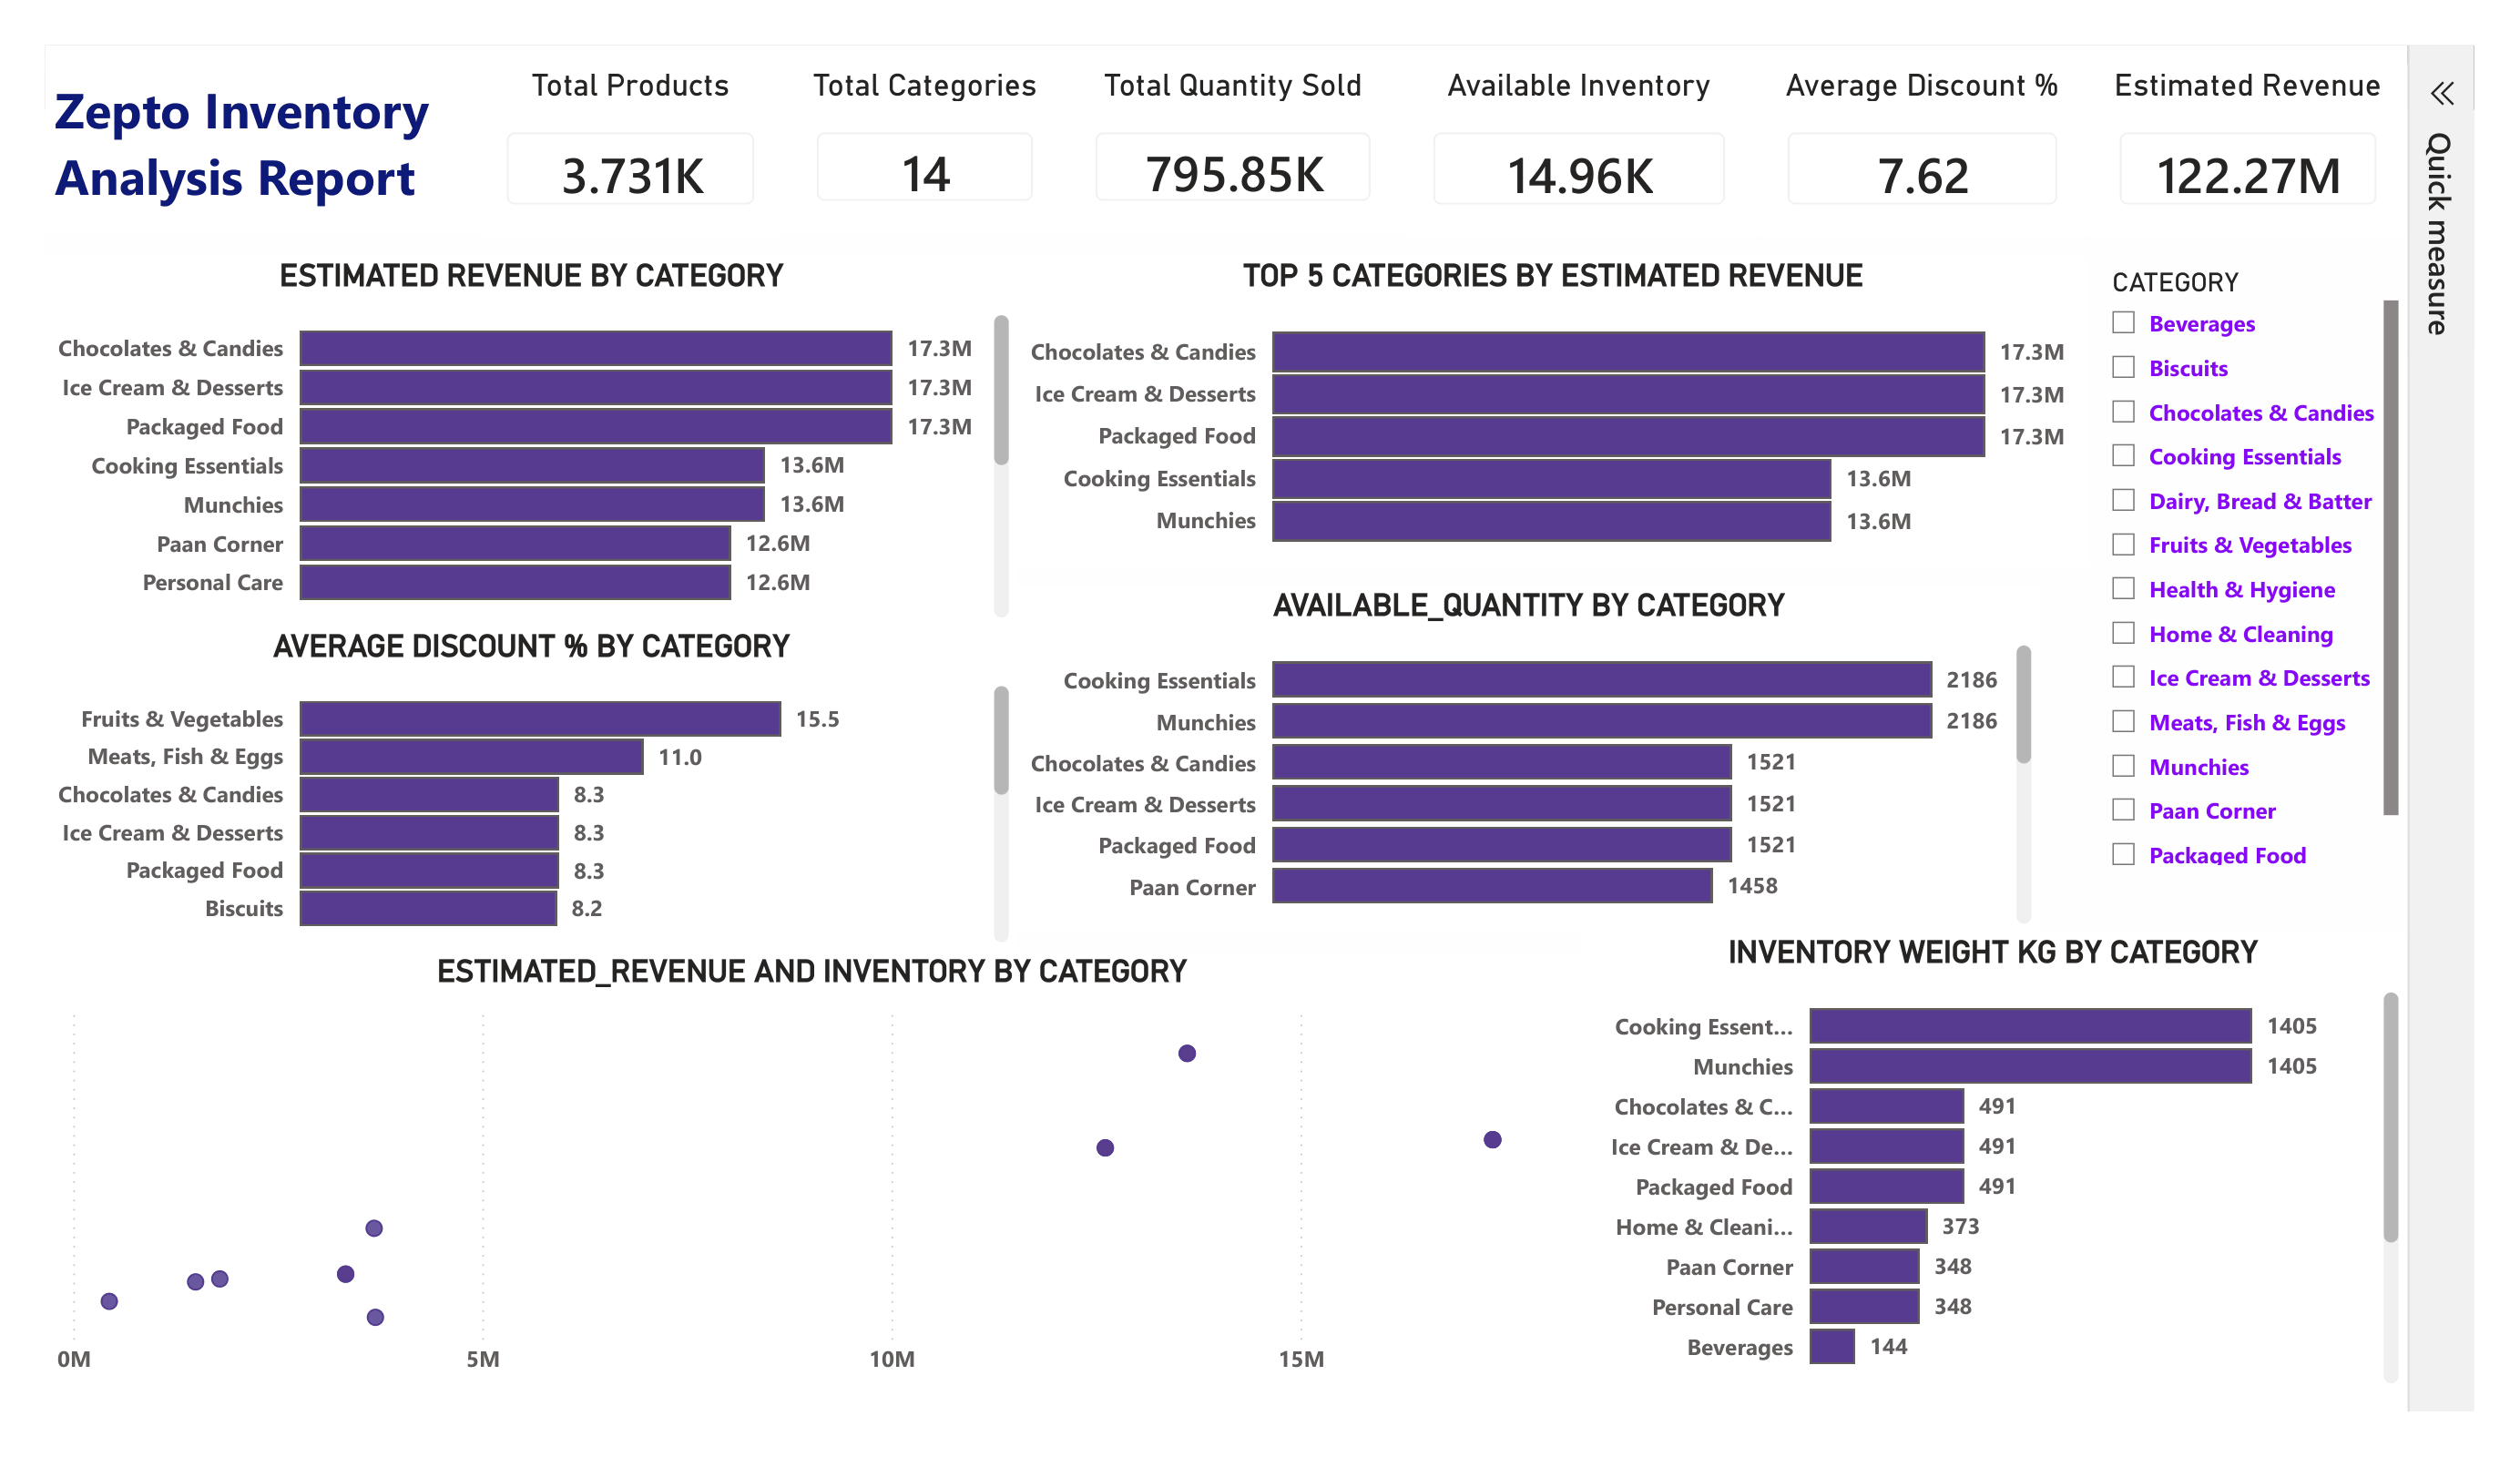

The dashboard page shown, as its layout file describes it:
{"tool":"powerbi","page":{"name":"Business Overview","canvas":[1280,720],"ordinal":0},"visuals":[{"type":"cardVisual","title":"Total Products","fields":{"Data":["CountNonNull(ZEPTO_INVENTORY.SKU_ID)"]},"box":[232.9,1.2,168.1,92.5],"z":0},{"type":"cardVisual","title":"Total Categories","fields":{"Data":["Count(ZEPTO_INVENTORY.CATEGORY)"]},"box":[401.1,1.2,151.3,91.3],"z":1000},{"type":"cardVisual","title":"Total Quantity Sold","fields":{"Data":["Sum(ZEPTO_INVENTORY.QUANTITY)"]},"box":[552.3,1.2,182.5,91.3],"z":2000},{"type":"cardVisual","title":"Estimated Revenue","fields":{"Data":["ZEPTO_INVENTORY.Estimated_Revenue"]},"box":[1107.1,1.2,172.9,92.5],"z":3000},{"type":"cardVisual","title":"Available Inventory","fields":{"Data":["Sum(ZEPTO_INVENTORY.AVAILABLE_QUANTITY)"]},"box":[734.9,1.2,192.1,92.5],"z":4000},{"type":"cardVisual","title":"Average Discount %","fields":{"Data":["Avg(ZEPTO_INVENTORY.DISCOUNT_PERCENT)"]},"box":[927,1.2,180.1,92.5],"z":5000},{"type":"clusteredBarChart","title":"ESTIMATED REVENUE BY CATEGORY","fields":{"Category":["ZEPTO_INVENTORY.CATEGORY"],"Y":["ZEPTO_INVENTORY.Estimated_Revenue"]},"box":[0,104.5,527.1,200.5],"z":6000},{"type":"clusteredBarChart","title":"AVERAGE DISCOUNT % BY CATEGORY","fields":{"Category":["ZEPTO_INVENTORY.CATEGORY"],"Y":["Avg(ZEPTO_INVENTORY.DISCOUNT_PERCENT)"]},"box":[0,304.8,527.4,176.2],"z":7000},{"type":"clusteredBarChart","title":"TOP 5 CATEGORIES BY ESTIMATED REVENUE","fields":{"Category":["ZEPTO_INVENTORY.CATEGORY"],"Y":["ZEPTO_INVENTORY.Estimated_Revenue"]},"box":[527.1,104.5,580,168.1],"z":8000},{"type":"clusteredBarChart","title":"AVAILABLE_QUANTITY BY CATEGORY","fields":{"Y":["Sum(ZEPTO_INVENTORY.AVAILABLE_QUANTITY)"],"Category":["ZEPTO_INVENTORY.CATEGORY"]},"box":[527.4,283.3,553.6,188.1],"z":9000},{"type":"clusteredBarChart","title":"INVENTORY WEIGHT KG BY CATEGORY","fields":{"Y":["ZEPTO_INVENTORY.Inventory Weight KG"],"Category":["ZEPTO_INVENTORY.CATEGORY"]},"box":[831,471.4,448.8,248.8],"z":10000},{"type":"slicer","fields":{"Values":["ZEPTO_INVENTORY.CATEGORY"]},"box":[1107.1,104.8,172.6,335.7],"z":11000},{"type":"scatterChart","title":"ESTIMATED_REVENUE AND INVENTORY BY CATEGORY","fields":{"X":["ZEPTO_INVENTORY.Estimated_Revenue"],"Y":["ZEPTO_INVENTORY.AVAILABLE_QUANTITY"],"Category":["ZEPTO_INVENTORY.CATEGORY"]},"box":[0,481,831,239.3],"z":12000},{"type":"textbox","box":[0,1.2,248.6,91.3],"z":12001}]}

Visuals, with their boxes on the page's 1280x720 design canvas (x1, y1, x2, y2). These are canvas units, not pixel positions in the 2520x1457 screenshot, which may show the page scaled, cropped or inside an application window:
"Total Products" cardVisual: locate(233, 1, 401, 94)
"Total Categories" cardVisual: locate(401, 1, 552, 92)
"Total Quantity Sold" cardVisual: locate(552, 1, 735, 92)
"Estimated Revenue" cardVisual: locate(1107, 1, 1280, 94)
"Available Inventory" cardVisual: locate(735, 1, 927, 94)
"Average Discount %" cardVisual: locate(927, 1, 1107, 94)
"ESTIMATED REVENUE BY CATEGORY" clusteredBarChart: locate(0, 104, 527, 305)
"AVERAGE DISCOUNT % BY CATEGORY" clusteredBarChart: locate(0, 305, 527, 481)
"TOP 5 CATEGORIES BY ESTIMATED REVENUE" clusteredBarChart: locate(527, 104, 1107, 273)
"AVAILABLE_QUANTITY BY CATEGORY" clusteredBarChart: locate(527, 283, 1081, 471)
"INVENTORY WEIGHT KG BY CATEGORY" clusteredBarChart: locate(831, 471, 1280, 720)
slicer - ZEPTO_INVENTORY.CATEGORY: locate(1107, 105, 1280, 440)
"ESTIMATED_REVENUE AND INVENTORY BY CATEGORY" scatterChart: locate(0, 481, 831, 720)
textbox: locate(0, 1, 249, 92)
